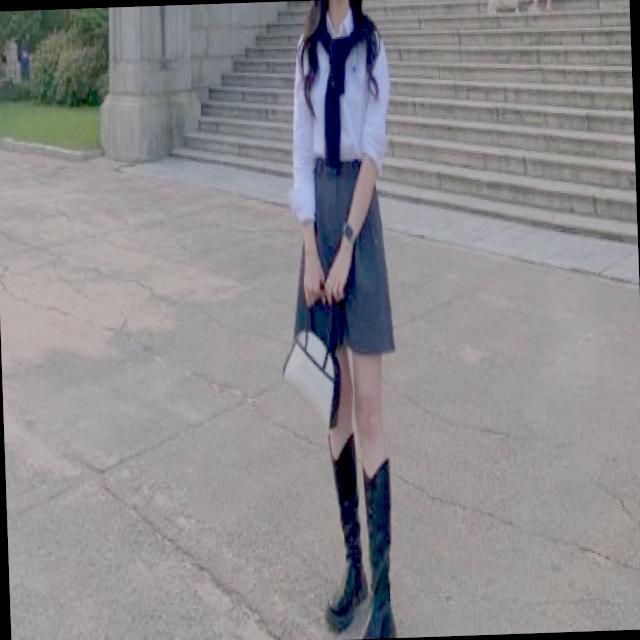shirt: (286, 2, 394, 225)
skirt: (286, 157, 396, 360)
